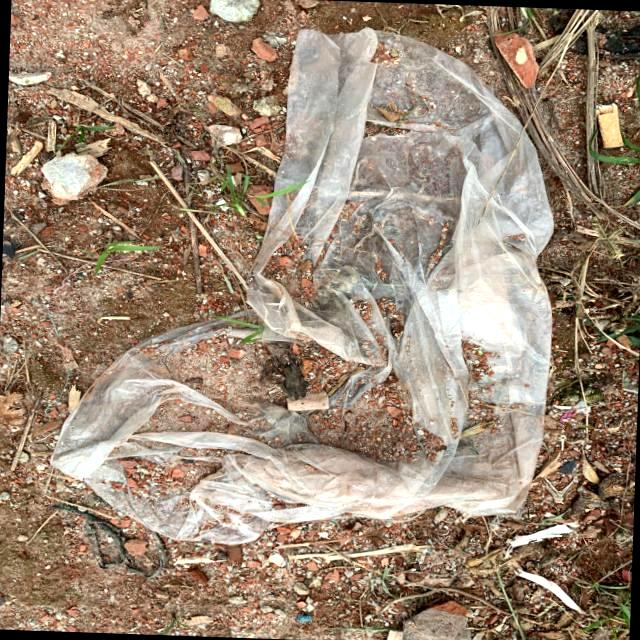polythene: (262, 45, 577, 558)
